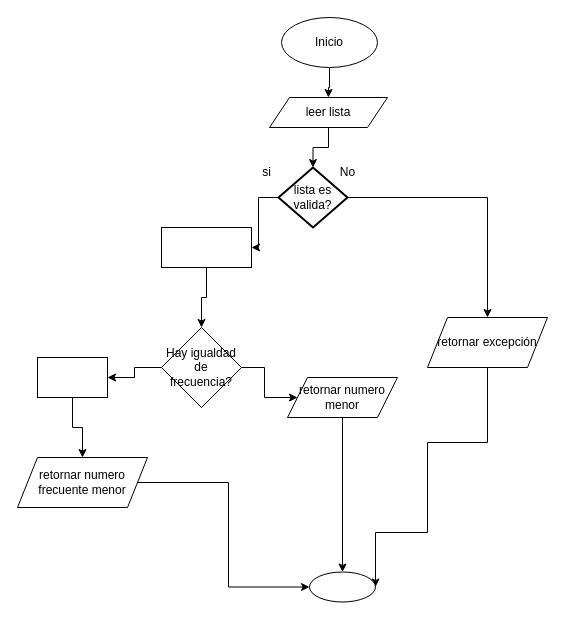
The diagram is 565 pixels wide and 620 high, and some of its shapes have lost their labels. Each missing label, with the centre of its shape:
"fin" belongs at point (342, 586).
"obtener # mas frecuente" belongs at point (206, 247).
"obtener numero menor" belongs at point (72, 377).
